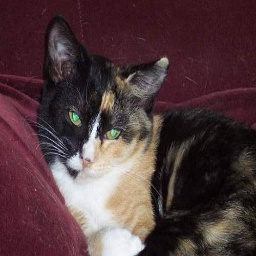cat: (35, 20, 256, 256)
